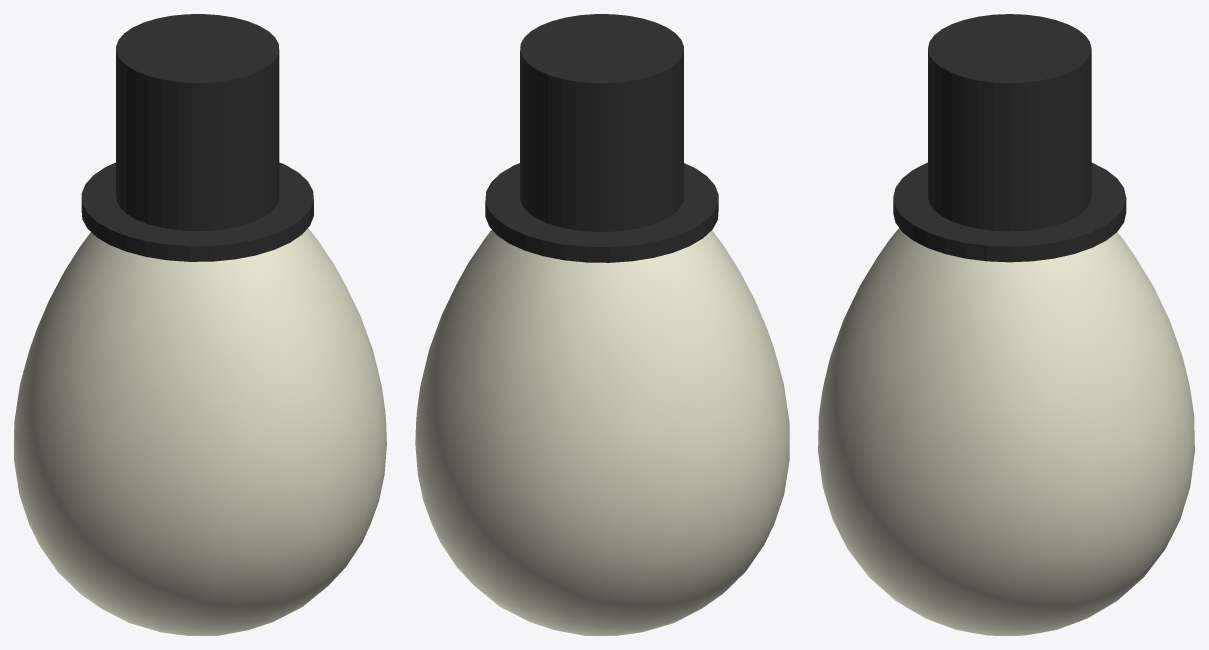
File: tophategg_compressed.glb
3 views of the same model, side by side, from view 1: azimuth 30°, elevation 25°; view 2: azimuth 150°, elevation 25°; view 3: azimuth 270°, elevation 25° (orthographic).
Parts seen in each view (by area): view 1: Icosphere, hat; view 2: Icosphere, hat; view 3: Icosphere, hat.
Part boxes in pixels (x1,y1,x2,y2): Icosphere: [14, 228, 386, 635]; hat: [81, 14, 313, 261]; Icosphere: [415, 230, 789, 635]; hat: [485, 14, 718, 262]; Icosphere: [818, 228, 1194, 635]; hat: [893, 14, 1126, 262].
Size of the model in its own units: 1.51 by 2.52 by 1.51.
